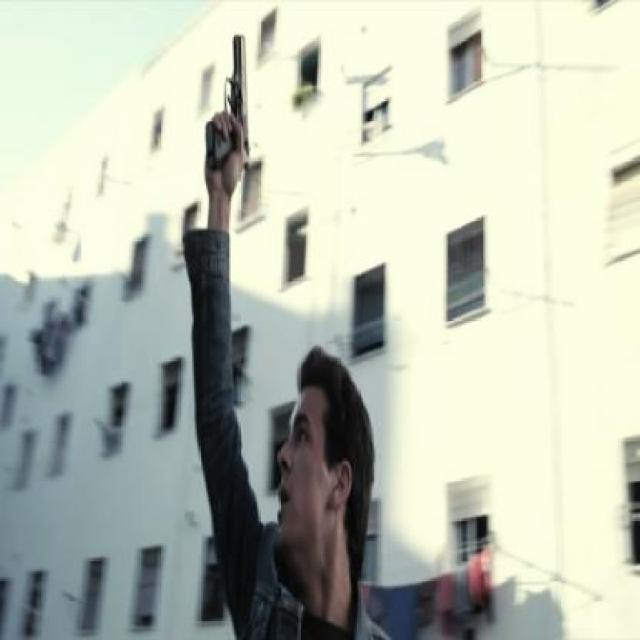gun: (185, 33, 264, 199)
